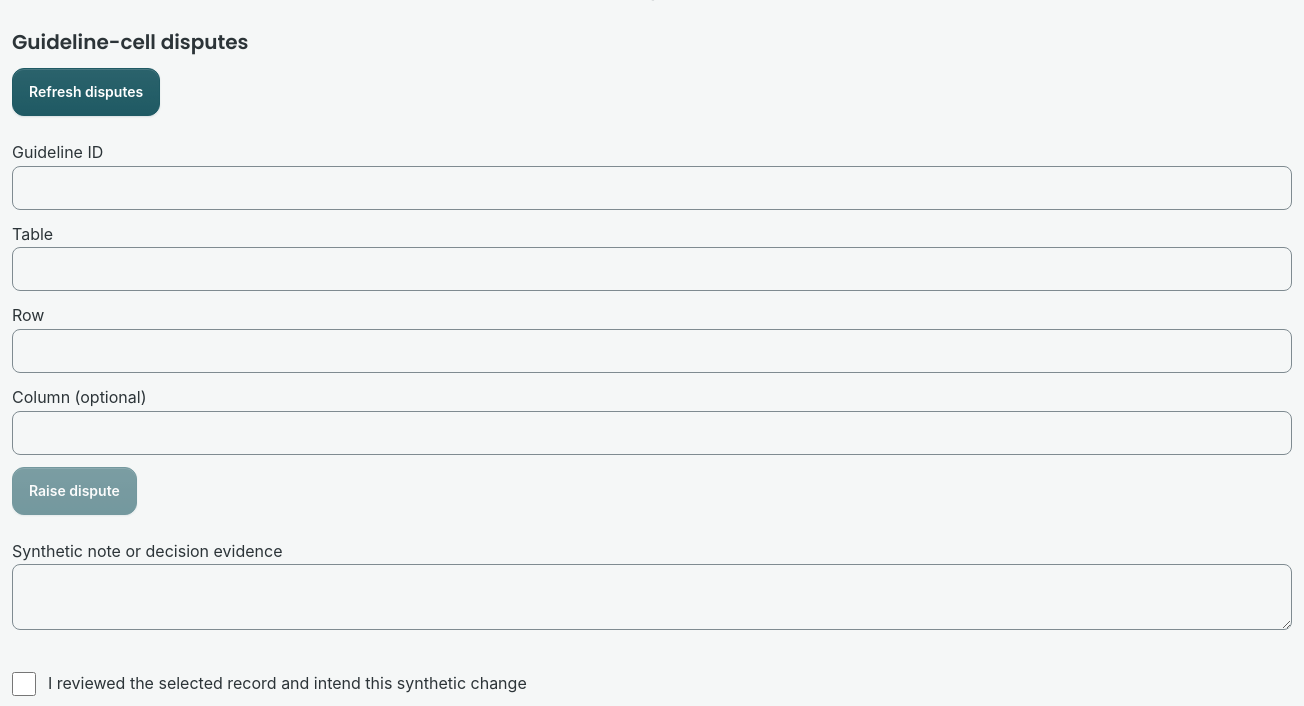
Test: does not fetch or write on initial render and requires explicit confirmation
This screenshot has width=1304, height=706.
(page scrolled)
Expected: the button "Raise dispute" is disabled, [12,467,137,515]
Click the checkbox labelled "I reviewed the selected record and intend this synthetic change" at (24, 684), box [12,672,36,696]
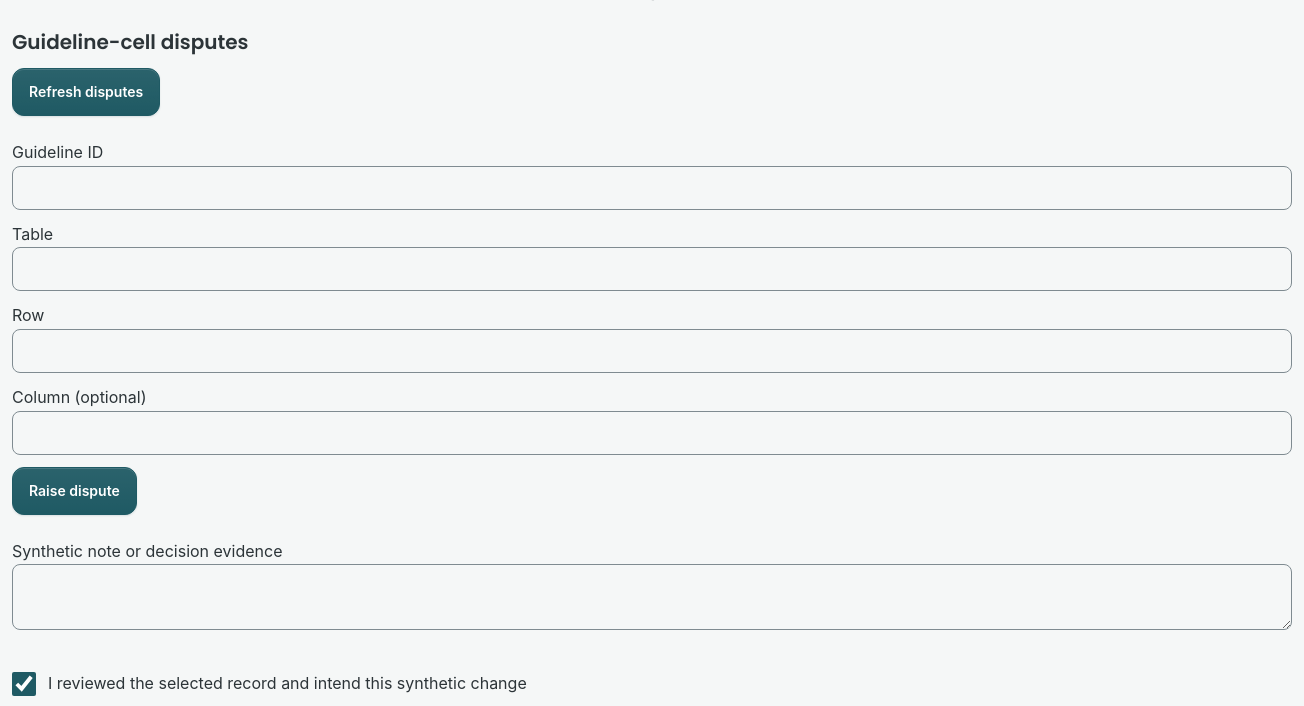
Now the button "Raise dispute" is enabled, box [12,467,137,515]
